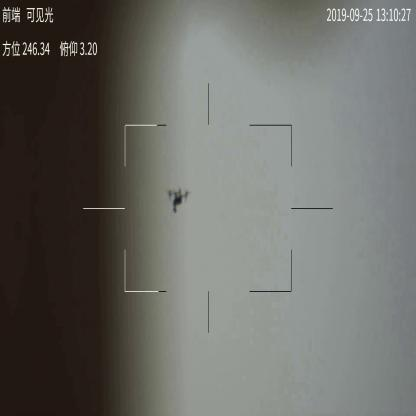uav: (166, 185, 189, 215)
